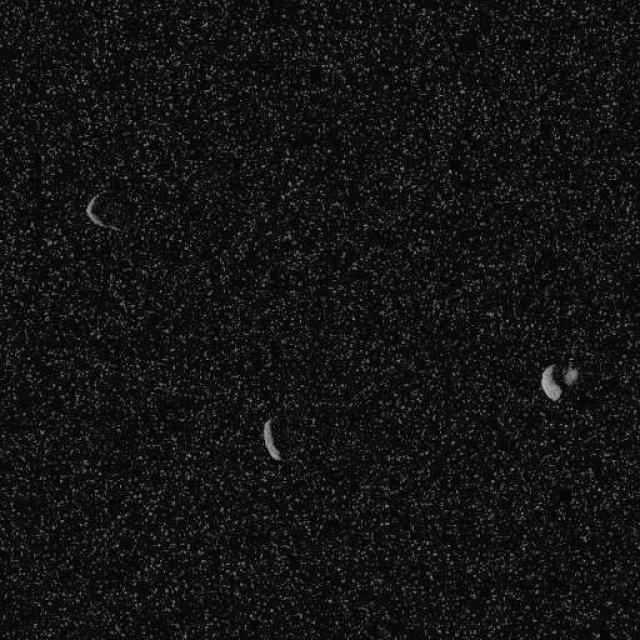D2: (539, 361, 579, 401), (84, 190, 122, 232), (262, 416, 282, 462)
